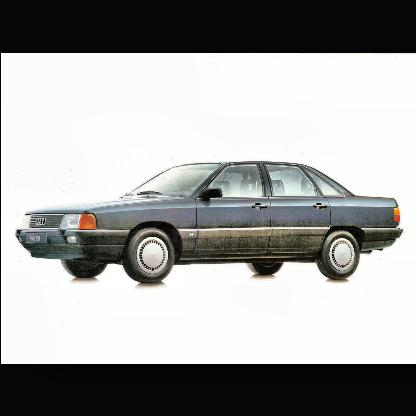Audi 100 Sedan 1994: (16, 161, 405, 284)
